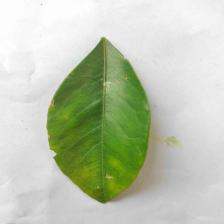greening: (47, 122, 136, 198)
